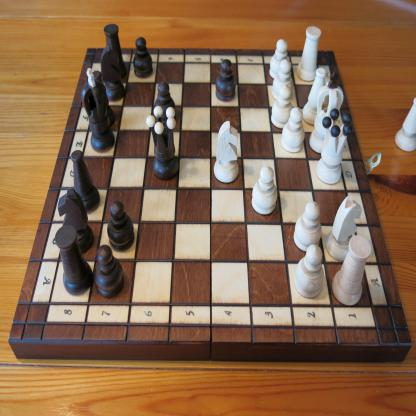black-bishop: (70, 150, 101, 214), (92, 70, 115, 129)
black-king: (80, 67, 116, 154)
black-knight: (57, 187, 94, 254), (100, 45, 126, 102)
black-pawn: (94, 244, 125, 299), (106, 200, 135, 253), (154, 80, 176, 124), (215, 58, 236, 103), (133, 36, 153, 80)
black-queen: (146, 105, 179, 181)
black-rook: (54, 224, 94, 296), (103, 23, 127, 78)
white-bishop: (302, 67, 326, 126), (394, 96, 415, 153)
white-king: (309, 69, 344, 154)
white-knight: (325, 194, 363, 261), (213, 120, 239, 184)
white-pawn: (294, 244, 324, 300), (293, 200, 322, 253), (251, 165, 278, 216), (282, 107, 307, 153), (271, 84, 293, 129), (271, 59, 294, 101), (269, 38, 289, 80)
white-queen: (316, 107, 352, 184)
white-rook: (331, 234, 372, 307), (296, 25, 322, 82)
